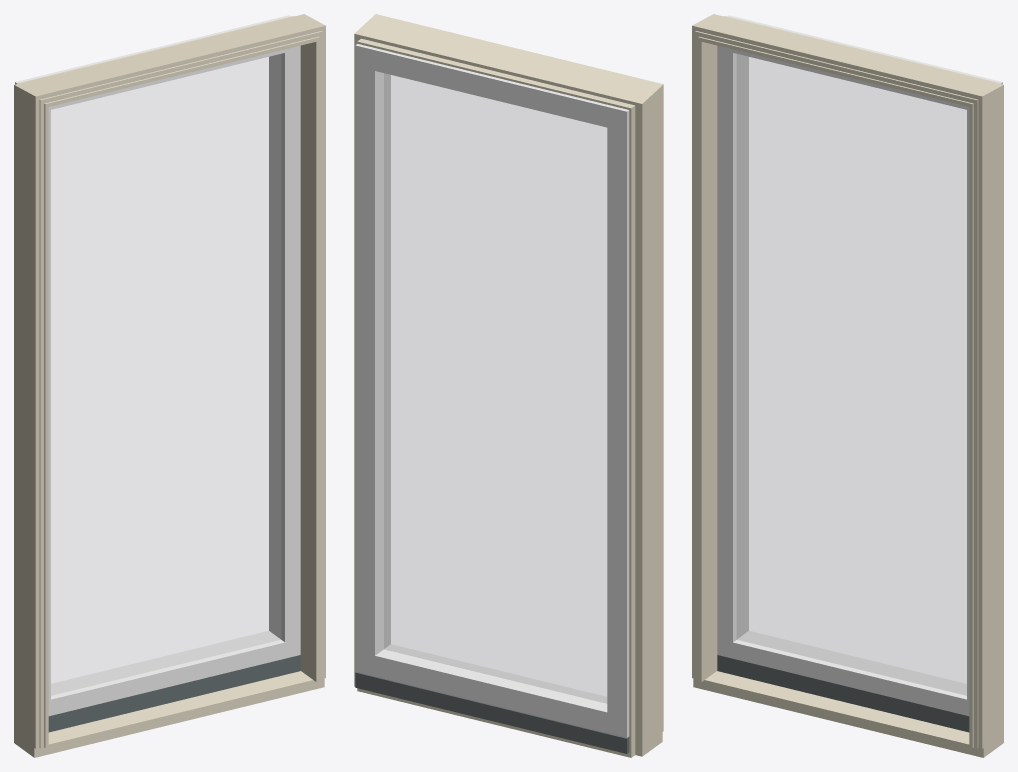
3 renders of one model, left to right at view 1: azimuth 30°, elevation 25°; view 2: azimuth 150°, elevation 25°; view 3: azimuth 330°, elevation 25°, orthographic.
Visible parts, largest first — view 1: [8703606]Merk D-001, [8703607]DEL_Merk D; view 2: [8703606]Merk D-001, [8703607]DEL_Merk D; view 3: [8703606]Merk D-001, [8703607]DEL_Merk D.
Part boxes in pixels (left/top/right/bottom): [8703606]Merk D-001: left=15, top=15, right=300, bottom=732; [8703607]DEL_Merk D: left=14, top=14, right=325, bottom=757; [8703606]Merk D-001: left=355, top=44, right=629, bottom=753; [8703607]DEL_Merk D: left=354, top=14, right=663, bottom=757; [8703606]Merk D-001: left=717, top=15, right=1002, bottom=732; [8703607]DEL_Merk D: left=692, top=14, right=1003, bottom=757.
Bounding box in the file's own units: 1.16 × 2.54 × 0.212.
